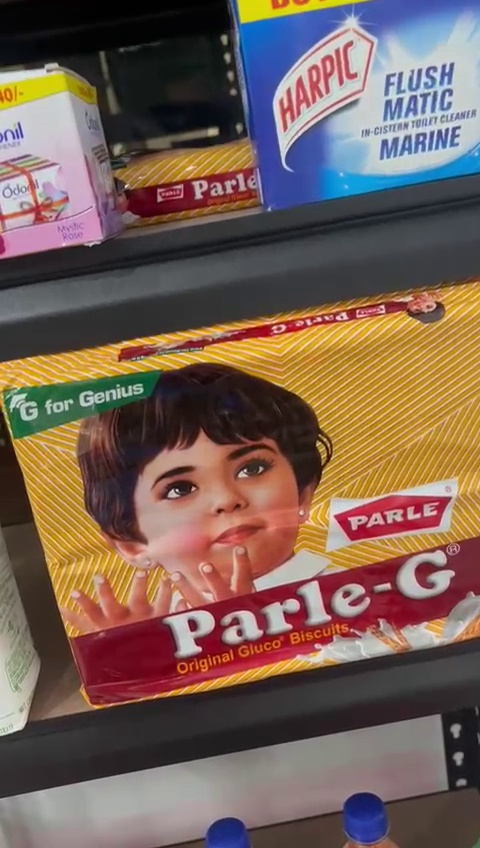Parle-G: (2, 288, 480, 721)
